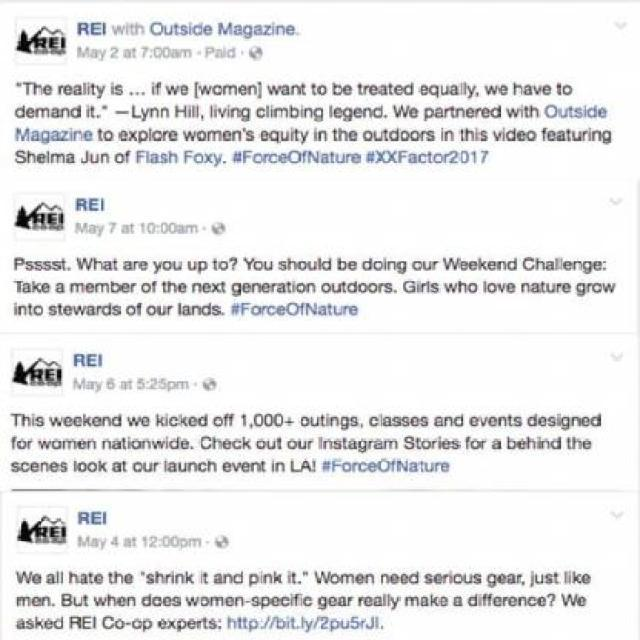0: (459, 150, 468, 164), (254, 413, 263, 427), (264, 413, 273, 427), (274, 413, 283, 427), (170, 534, 179, 548), (153, 46, 162, 59), (168, 221, 177, 234), (162, 46, 170, 60), (162, 534, 170, 548), (160, 221, 168, 234), (147, 222, 156, 233)
1: (470, 149, 476, 163), (240, 413, 246, 427), (142, 534, 148, 548), (138, 222, 144, 233)
2: (320, 616, 329, 630), (110, 46, 119, 59), (450, 150, 458, 164), (148, 534, 156, 548), (150, 378, 158, 390)
4: (111, 535, 120, 548)
5: (350, 616, 359, 630), (137, 378, 145, 390), (158, 378, 166, 390)
6: (107, 378, 115, 390)
7: (479, 150, 488, 164), (108, 221, 117, 234), (140, 46, 148, 59)
A: (300, 458, 312, 472), (54, 281, 66, 294), (407, 151, 418, 164), (167, 461, 178, 474), (372, 595, 383, 608), (452, 595, 463, 608), (72, 82, 82, 96), (434, 106, 444, 120), (506, 572, 516, 586), (14, 619, 26, 630), (449, 84, 458, 98), (51, 106, 60, 120), (30, 130, 41, 141), (122, 259, 133, 270), (213, 573, 224, 584), (418, 596, 429, 607), (348, 438, 358, 450), (338, 595, 347, 608), (66, 153, 76, 164), (22, 282, 32, 293), (434, 416, 444, 427), (233, 24, 242, 36), (254, 24, 263, 36), (378, 84, 387, 96), (86, 304, 95, 316), (317, 304, 326, 316), (374, 438, 383, 450), (492, 438, 501, 450), (530, 282, 538, 295), (383, 415, 391, 428), (122, 48, 132, 58), (408, 462, 418, 472), (46, 574, 56, 584), (78, 574, 88, 584), (281, 84, 290, 95), (50, 130, 59, 141), (102, 259, 111, 270), (277, 283, 286, 294), (118, 380, 127, 391), (523, 85, 532, 96), (182, 304, 190, 316), (90, 48, 99, 58), (111, 462, 120, 472), (90, 538, 99, 548), (557, 130, 565, 141), (150, 152, 158, 163), (546, 260, 554, 271), (86, 380, 94, 391), (112, 438, 120, 449), (124, 537, 132, 548), (171, 50, 180, 59), (214, 50, 223, 59), (87, 224, 96, 233), (177, 224, 186, 233), (321, 153, 328, 164), (120, 224, 128, 233)
B: (276, 616, 286, 630), (62, 593, 72, 607), (337, 256, 346, 270), (111, 278, 120, 292), (508, 436, 517, 450), (290, 105, 299, 118), (333, 80, 341, 94)
C: (199, 434, 213, 452), (522, 256, 536, 270), (102, 616, 115, 630), (232, 438, 242, 450), (358, 461, 367, 474), (256, 108, 266, 119), (268, 152, 278, 163), (197, 462, 208, 472), (267, 304, 276, 316), (418, 152, 427, 163), (369, 416, 378, 427), (281, 596, 290, 607), (304, 596, 313, 607), (528, 596, 537, 607), (21, 462, 30, 472), (170, 416, 178, 427), (31, 380, 37, 388), (34, 49, 42, 54), (33, 224, 39, 230), (34, 538, 40, 544)
D: (14, 105, 26, 118), (192, 22, 203, 36), (527, 413, 538, 427), (590, 412, 601, 426), (409, 570, 418, 586), (404, 82, 414, 95), (373, 104, 382, 118), (492, 104, 501, 118), (588, 103, 597, 117), (390, 127, 399, 141), (507, 127, 516, 141), (322, 257, 331, 271), (363, 258, 372, 272), (508, 256, 517, 270), (348, 279, 357, 293), (102, 302, 111, 316), (112, 413, 121, 427), (198, 412, 207, 426), (454, 412, 463, 426), (170, 436, 179, 450), (233, 570, 242, 584), (468, 593, 477, 607), (54, 616, 63, 630), (71, 105, 80, 118), (202, 302, 210, 316), (552, 436, 560, 450), (142, 593, 150, 607), (227, 46, 235, 57)
E: (122, 572, 135, 586), (179, 84, 190, 98), (119, 282, 132, 293), (496, 572, 507, 585), (342, 84, 352, 98), (26, 106, 36, 120), (466, 106, 476, 120), (84, 283, 96, 294), (200, 283, 212, 294), (180, 438, 191, 450), (30, 596, 42, 607), (222, 129, 232, 142), (36, 152, 46, 165), (278, 151, 288, 164), (188, 415, 198, 428), (162, 595, 172, 608), (328, 595, 338, 608), (499, 83, 508, 97), (598, 106, 607, 120), (517, 128, 526, 142), (400, 572, 409, 586), (433, 572, 442, 586), (440, 594, 449, 608), (89, 198, 98, 212), (87, 353, 96, 367), (83, 616, 92, 630), (83, 130, 94, 141), (546, 130, 557, 141), (40, 282, 51, 293), (177, 283, 188, 294), (542, 84, 552, 96), (222, 438, 232, 450), (582, 438, 592, 450), (240, 462, 252, 472), (44, 618, 54, 630), (50, 36, 59, 49), (334, 106, 343, 119), (118, 129, 127, 142), (507, 282, 516, 295), (64, 415, 73, 428), (73, 415, 82, 428), (92, 415, 101, 428), (141, 415, 150, 428), (390, 572, 399, 585), (48, 212, 57, 225), (50, 525, 59, 538), (582, 572, 590, 586), (92, 512, 100, 526), (468, 260, 478, 271), (562, 283, 572, 294), (508, 596, 518, 607), (203, 24, 212, 36), (43, 84, 52, 96), (64, 84, 73, 96), (369, 84, 378, 96), (394, 84, 403, 96), (419, 84, 428, 96), (349, 130, 358, 142), (487, 260, 496, 272), (64, 304, 73, 316), (442, 438, 451, 450), (517, 438, 526, 450), (158, 618, 167, 630), (188, 618, 197, 630), (92, 22, 100, 35), (170, 129, 178, 142), (260, 129, 268, 142), (582, 416, 590, 429), (276, 306, 286, 316), (222, 462, 232, 472), (32, 574, 42, 584), (356, 574, 366, 584), (238, 85, 247, 96), (353, 108, 362, 119), (409, 108, 418, 119), (482, 108, 491, 119), (351, 153, 360, 164), (348, 260, 357, 271), (459, 260, 468, 271), (563, 259, 572, 270), (593, 260, 602, 271), (410, 416, 419, 427), (469, 416, 478, 427), (488, 416, 497, 427), (538, 416, 547, 427), (77, 438, 86, 449), (441, 462, 450, 473), (117, 596, 126, 607), (224, 596, 233, 607), (271, 596, 280, 607), (363, 596, 372, 607), (493, 596, 502, 607), (537, 596, 546, 607), (578, 596, 587, 607), (286, 24, 294, 36), (46, 368, 54, 380), (349, 306, 358, 316), (30, 462, 39, 472), (50, 462, 59, 472), (368, 462, 377, 472), (95, 574, 104, 584), (140, 260, 148, 271), (242, 282, 250, 293), (262, 283, 270, 294)
F: (397, 150, 408, 164), (242, 149, 252, 163), (184, 150, 193, 164), (136, 149, 144, 163), (242, 302, 250, 316), (333, 459, 341, 473), (124, 149, 130, 163), (302, 149, 308, 163), (152, 278, 158, 292), (136, 300, 142, 314), (300, 300, 306, 314), (223, 413, 229, 427), (228, 412, 234, 426), (390, 458, 396, 472), (293, 593, 299, 607), (486, 593, 492, 607), (156, 82, 162, 95), (465, 436, 470, 450), (482, 593, 487, 607), (542, 126, 546, 140), (12, 436, 16, 450)
G: (600, 128, 612, 146), (485, 572, 498, 588), (402, 279, 416, 293), (242, 23, 253, 40), (397, 260, 408, 276), (342, 106, 352, 122), (357, 438, 368, 452), (314, 106, 323, 122), (231, 282, 240, 298), (40, 130, 49, 144), (583, 260, 592, 274), (340, 416, 349, 430), (318, 596, 327, 610), (241, 108, 250, 121), (577, 283, 585, 297), (562, 416, 570, 430)
H: (175, 105, 188, 118), (338, 127, 348, 141), (168, 150, 178, 164), (288, 257, 298, 271), (168, 279, 178, 293), (458, 279, 468, 293), (212, 436, 222, 450), (513, 80, 522, 94), (27, 149, 36, 163), (94, 257, 103, 271), (527, 434, 536, 448), (114, 570, 123, 584), (108, 592, 117, 606), (228, 614, 237, 628), (208, 458, 217, 472), (22, 412, 31, 426), (33, 82, 42, 95), (136, 22, 144, 36), (530, 104, 538, 118), (467, 127, 475, 141), (536, 258, 544, 272), (572, 436, 580, 450), (70, 570, 78, 584), (156, 569, 164, 583)
I: (188, 22, 194, 36), (474, 127, 480, 141), (126, 436, 132, 450), (436, 436, 442, 450), (270, 458, 276, 472), (170, 570, 176, 584), (448, 570, 454, 584), (566, 570, 572, 584), (60, 36, 65, 50), (313, 127, 318, 141), (439, 127, 444, 141), (13, 302, 18, 316), (325, 413, 330, 427), (165, 436, 170, 450), (285, 616, 290, 629), (318, 434, 322, 450), (188, 104, 192, 118), (502, 127, 506, 141), (588, 127, 592, 141), (164, 412, 168, 426), (98, 353, 102, 367), (102, 22, 106, 35), (124, 22, 128, 35), (300, 103, 303, 119), (62, 527, 66, 538), (86, 104, 89, 118), (227, 104, 230, 118), (271, 104, 274, 118), (521, 103, 524, 117), (584, 104, 587, 118), (70, 127, 73, 141), (290, 126, 293, 140), (384, 256, 387, 270), (417, 278, 420, 292), (557, 412, 560, 426), (537, 436, 540, 450), (260, 570, 263, 584), (291, 592, 294, 606), (300, 592, 303, 606), (100, 198, 103, 212), (104, 510, 107, 524), (93, 616, 96, 630), (87, 81, 90, 94), (111, 82, 114, 95), (214, 105, 217, 118), (223, 46, 226, 57), (59, 213, 62, 224), (58, 368, 61, 379), (32, 411, 34, 427), (272, 22, 274, 36), (152, 80, 154, 94), (292, 280, 294, 294), (200, 570, 202, 584), (288, 570, 290, 584), (480, 592, 482, 606)
J: (80, 150, 89, 164), (366, 616, 374, 630), (529, 570, 534, 588)
K: (83, 412, 92, 428), (184, 570, 193, 586), (478, 256, 488, 270), (242, 436, 252, 450), (99, 458, 108, 472), (32, 280, 40, 294), (156, 412, 164, 426), (180, 412, 188, 426), (274, 570, 282, 584), (573, 570, 581, 584), (430, 593, 438, 607), (35, 616, 43, 630)
L: (290, 458, 302, 472), (132, 104, 140, 118), (482, 279, 487, 293), (148, 127, 152, 141), (564, 571, 568, 584), (302, 616, 306, 629), (83, 82, 86, 96), (192, 104, 195, 118), (196, 104, 199, 118), (46, 149, 49, 163), (146, 150, 149, 164), (427, 279, 430, 293), (74, 458, 77, 472), (165, 458, 168, 472), (57, 570, 60, 584), (387, 593, 390, 607), (463, 82, 466, 95), (210, 105, 213, 118), (266, 105, 269, 118), (556, 256, 558, 272), (330, 103, 332, 117), (318, 257, 320, 271), (560, 257, 562, 271), (178, 300, 180, 314), (380, 412, 382, 426), (384, 593, 386, 607), (376, 616, 378, 630), (460, 82, 462, 95), (61, 570, 62, 584)
M: (15, 126, 30, 140), (68, 282, 86, 293), (218, 22, 232, 36), (17, 594, 31, 608), (76, 46, 90, 59), (273, 108, 289, 119), (50, 152, 66, 163), (61, 438, 77, 449), (383, 438, 399, 449), (223, 84, 237, 96), (72, 378, 86, 390), (36, 107, 50, 118), (208, 130, 222, 141), (186, 223, 200, 234), (406, 596, 420, 607), (74, 222, 88, 233), (95, 282, 108, 293), (340, 574, 354, 584), (210, 596, 224, 606), (78, 536, 90, 547), (179, 48, 192, 58), (174, 381, 188, 390), (188, 538, 202, 547)
N: (396, 458, 409, 472), (306, 300, 317, 316), (308, 149, 320, 163), (444, 415, 454, 428), (248, 84, 258, 96), (18, 304, 28, 316), (223, 572, 232, 585), (592, 130, 602, 141), (306, 282, 316, 293), (364, 573, 374, 584), (444, 130, 453, 142), (191, 304, 200, 316), (323, 438, 332, 450), (574, 259, 582, 272), (290, 84, 299, 95), (60, 108, 69, 119), (231, 107, 240, 118), (304, 108, 313, 119), (73, 130, 82, 141), (318, 130, 327, 141), (100, 152, 109, 163), (497, 260, 506, 271), (521, 282, 530, 293), (102, 416, 111, 427), (87, 438, 96, 449), (102, 438, 111, 449), (541, 438, 550, 449), (263, 573, 272, 584), (380, 573, 389, 584), (127, 596, 136, 607), (234, 596, 243, 607), (518, 596, 527, 607), (388, 259, 397, 270), (276, 24, 284, 36), (572, 414, 580, 426), (330, 416, 339, 426), (497, 416, 506, 426), (40, 462, 49, 472), (188, 462, 197, 472), (251, 462, 260, 472), (41, 596, 50, 606), (150, 108, 158, 119), (160, 108, 168, 119), (364, 108, 372, 119), (456, 108, 464, 119), (232, 130, 240, 141), (192, 282, 200, 293), (142, 438, 150, 449), (252, 282, 260, 292), (276, 462, 284, 472), (176, 574, 184, 584)
O: (149, 20, 163, 36), (544, 104, 558, 118), (288, 150, 302, 164), (286, 302, 300, 316), (378, 458, 390, 472), (218, 260, 230, 272), (76, 461, 87, 474), (399, 129, 410, 142), (562, 84, 572, 98), (250, 304, 261, 316), (298, 416, 310, 427), (368, 281, 378, 294), (200, 594, 209, 608), (362, 130, 373, 141), (526, 130, 537, 141), (357, 282, 368, 293), (286, 438, 297, 449), (126, 304, 136, 316), (146, 304, 156, 316), (104, 129, 113, 142), (197, 129, 206, 142), (115, 152, 124, 165), (153, 595, 162, 608), (296, 282, 306, 293), (132, 462, 143, 472), (213, 84, 222, 96), (317, 84, 326, 96), (34, 304, 43, 316), (51, 438, 60, 450), (115, 618, 124, 630), (342, 462, 352, 472), (253, 152, 262, 163), (433, 152, 442, 163), (163, 260, 172, 271), (254, 259, 263, 270), (298, 259, 307, 270), (374, 259, 383, 270), (141, 282, 150, 293), (322, 282, 331, 293), (488, 282, 497, 293), (17, 438, 26, 449), (257, 438, 266, 449), (421, 439, 430, 450), (453, 573, 462, 584), (410, 130, 419, 141), (153, 130, 162, 141), (472, 438, 481, 449), (132, 618, 140, 630), (412, 261, 422, 270), (468, 282, 477, 292), (213, 416, 222, 426), (88, 462, 97, 472), (194, 154, 203, 164), (594, 283, 602, 294), (132, 438, 140, 449), (331, 574, 338, 584), (40, 50, 49, 56), (50, 50, 59, 56), (42, 538, 50, 544), (41, 224, 47, 230), (50, 224, 56, 230), (38, 381, 44, 387), (48, 381, 54, 387), (52, 538, 58, 544)
P: (248, 572, 258, 588), (261, 595, 270, 611), (177, 618, 186, 634), (143, 618, 152, 634), (138, 130, 148, 144), (424, 108, 434, 121), (330, 619, 339, 633), (198, 260, 207, 274), (204, 46, 213, 59), (180, 538, 188, 552), (16, 258, 24, 272), (250, 618, 258, 632), (168, 380, 175, 392), (60, 539, 66, 547), (59, 50, 64, 58), (57, 226, 63, 232), (56, 382, 61, 389)
Q: (429, 86, 438, 100), (270, 130, 279, 144)
R: (32, 36, 48, 50), (74, 198, 88, 212), (32, 212, 46, 225), (69, 616, 82, 630), (74, 353, 86, 367), (78, 510, 90, 524), (34, 526, 49, 537), (30, 368, 44, 379), (78, 22, 89, 35), (94, 304, 102, 316), (58, 84, 64, 96), (344, 153, 352, 162), (166, 304, 172, 316), (262, 304, 268, 316), (444, 108, 450, 119), (476, 107, 482, 118), (163, 130, 169, 141), (421, 130, 427, 141), (582, 130, 588, 141), (444, 152, 450, 163), (132, 260, 138, 271), (432, 260, 438, 271), (130, 282, 136, 293), (271, 282, 277, 293), (378, 282, 384, 293), (28, 438, 34, 449), (432, 438, 438, 449), (482, 438, 488, 449), (347, 596, 353, 607), (502, 596, 508, 607), (556, 283, 562, 294), (586, 282, 592, 292), (343, 306, 349, 316), (152, 462, 158, 472), (352, 462, 358, 472), (434, 462, 440, 472), (164, 574, 170, 584), (443, 574, 449, 584), (516, 574, 522, 584), (358, 596, 364, 606), (360, 618, 366, 628), (263, 152, 268, 163), (369, 438, 374, 449), (308, 439, 314, 448), (364, 84, 368, 96), (196, 620, 202, 628), (422, 283, 426, 294)
S: (14, 149, 26, 163), (404, 436, 416, 450), (402, 414, 411, 428), (473, 572, 482, 586), (48, 304, 58, 316), (208, 618, 218, 630), (51, 259, 60, 272), (349, 415, 358, 428), (393, 414, 401, 428), (548, 414, 556, 428), (172, 594, 180, 608), (24, 260, 34, 271), (158, 153, 168, 164), (333, 438, 342, 450), (112, 304, 121, 316), (36, 415, 44, 428), (544, 572, 552, 585), (146, 574, 156, 584), (114, 85, 123, 96), (574, 108, 583, 119), (34, 260, 43, 271), (43, 259, 52, 270), (278, 259, 287, 270), (452, 438, 461, 449), (180, 24, 188, 36), (212, 304, 220, 316), (26, 618, 34, 630), (420, 416, 429, 426), (513, 416, 522, 426), (11, 462, 20, 472), (424, 574, 433, 584), (246, 130, 254, 141), (427, 130, 435, 141), (480, 130, 488, 141), (384, 282, 392, 293), (252, 596, 260, 607), (60, 462, 68, 472), (432, 282, 439, 293)
T: (12, 279, 25, 293), (10, 413, 22, 427), (23, 82, 32, 95), (172, 22, 180, 36), (300, 80, 308, 94), (112, 257, 119, 271), (121, 436, 128, 450), (88, 570, 95, 584), (82, 593, 89, 607), (128, 22, 134, 36), (90, 82, 96, 96), (388, 82, 394, 96), (556, 82, 562, 96), (97, 127, 103, 141), (293, 127, 299, 141), (332, 128, 338, 142), (458, 128, 464, 142), (566, 127, 572, 141), (60, 256, 66, 270), (162, 280, 168, 294), (221, 279, 227, 293), (341, 279, 347, 293), (57, 302, 63, 316), (326, 302, 332, 316), (320, 413, 326, 427), (508, 413, 514, 427), (342, 436, 348, 450), (416, 436, 422, 450), (108, 570, 114, 584), (291, 570, 297, 584), (290, 616, 296, 630), (236, 616, 242, 630), (242, 616, 248, 630), (311, 81, 317, 94), (358, 82, 364, 95), (90, 105, 96, 118), (450, 105, 456, 118), (568, 105, 574, 118), (330, 151, 336, 164), (428, 150, 434, 163), (212, 258, 218, 271), (286, 281, 292, 294), (28, 302, 34, 315), (276, 436, 282, 449), (566, 436, 572, 449), (121, 459, 127, 472), (203, 571, 209, 584), (383, 128, 389, 140), (127, 378, 133, 390), (260, 460, 266, 472), (418, 460, 424, 472), (540, 280, 545, 294), (132, 47, 138, 58), (128, 223, 134, 234), (202, 617, 208, 628), (525, 105, 530, 118), (131, 536, 137, 546), (554, 571, 558, 584)
U: (558, 107, 568, 118), (572, 130, 582, 141), (422, 260, 432, 271), (266, 438, 276, 449), (534, 573, 544, 584), (163, 24, 172, 36), (264, 260, 273, 272), (308, 260, 317, 272), (157, 304, 166, 316), (334, 304, 343, 316), (178, 462, 188, 472), (440, 84, 449, 95), (280, 130, 289, 141), (90, 152, 99, 163), (173, 260, 182, 271), (188, 260, 197, 271), (332, 282, 341, 293), (547, 283, 556, 294), (311, 416, 320, 427), (298, 438, 307, 449), (341, 619, 350, 630), (143, 462, 152, 472), (463, 574, 472, 584), (73, 596, 82, 606), (374, 130, 382, 141), (337, 152, 345, 163), (425, 462, 433, 472)
V: (492, 129, 502, 142), (497, 281, 506, 294), (533, 84, 542, 96), (218, 108, 227, 119), (479, 416, 488, 426), (232, 462, 240, 472)
W: (14, 570, 34, 586), (560, 592, 578, 608), (442, 257, 460, 271), (76, 257, 93, 271), (314, 570, 331, 584), (393, 105, 410, 118), (266, 84, 282, 96), (36, 438, 52, 450), (484, 84, 499, 96), (48, 416, 64, 427), (184, 597, 200, 608), (166, 84, 180, 96), (198, 84, 212, 96), (112, 24, 125, 36), (506, 108, 520, 119), (184, 130, 198, 141), (444, 282, 458, 293), (602, 282, 616, 293), (127, 416, 141, 427), (152, 438, 166, 449), (93, 596, 107, 607), (72, 306, 86, 316)
X: (386, 150, 399, 164), (376, 150, 386, 164), (128, 130, 138, 141), (203, 153, 212, 164), (168, 618, 176, 630), (212, 282, 220, 293)
Y: (242, 257, 255, 271), (304, 618, 314, 634), (140, 106, 149, 122), (214, 151, 223, 167), (152, 260, 162, 274), (98, 48, 107, 62), (391, 596, 400, 610), (96, 86, 105, 99), (467, 85, 476, 98), (94, 380, 103, 392), (300, 131, 308, 144), (96, 224, 104, 236), (100, 538, 108, 550)
Z: (262, 24, 272, 36), (60, 129, 68, 142)
